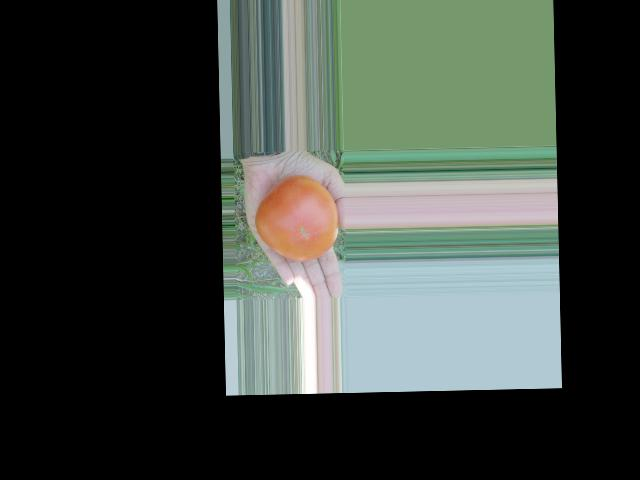tomato: (253, 175, 339, 262)
